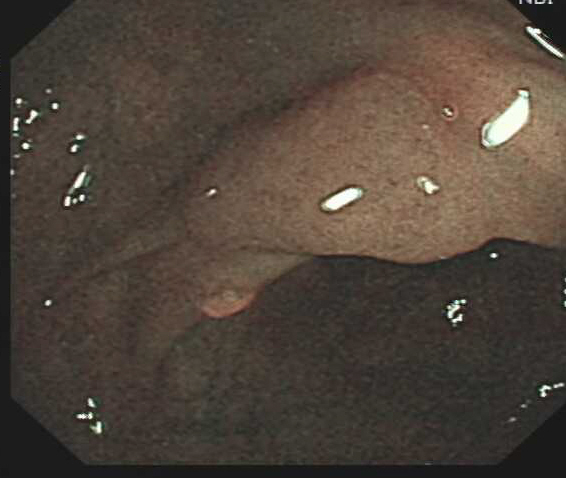others: (180, 70, 495, 268)
